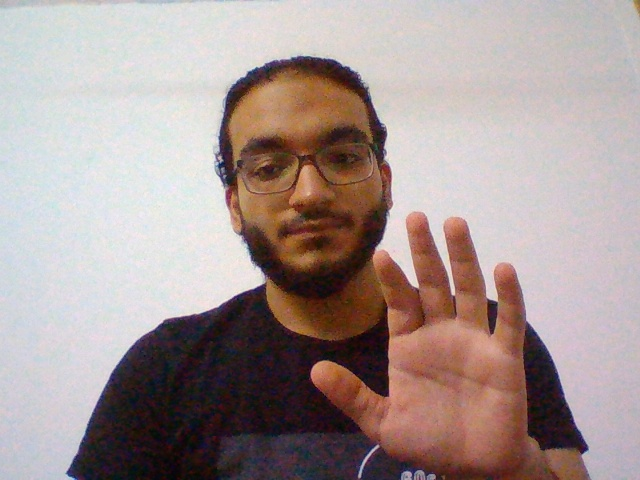Hello: (305, 196, 536, 476)
